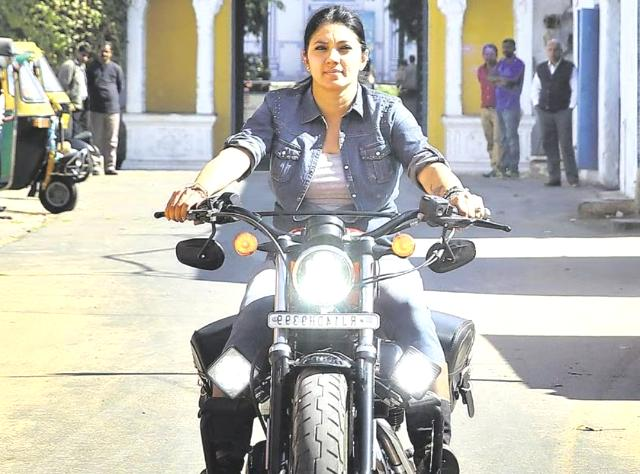licensePlate: (267, 307, 380, 332)
motorcycle: (169, 2, 511, 474)
withoutHelmet: (296, 6, 372, 100)
